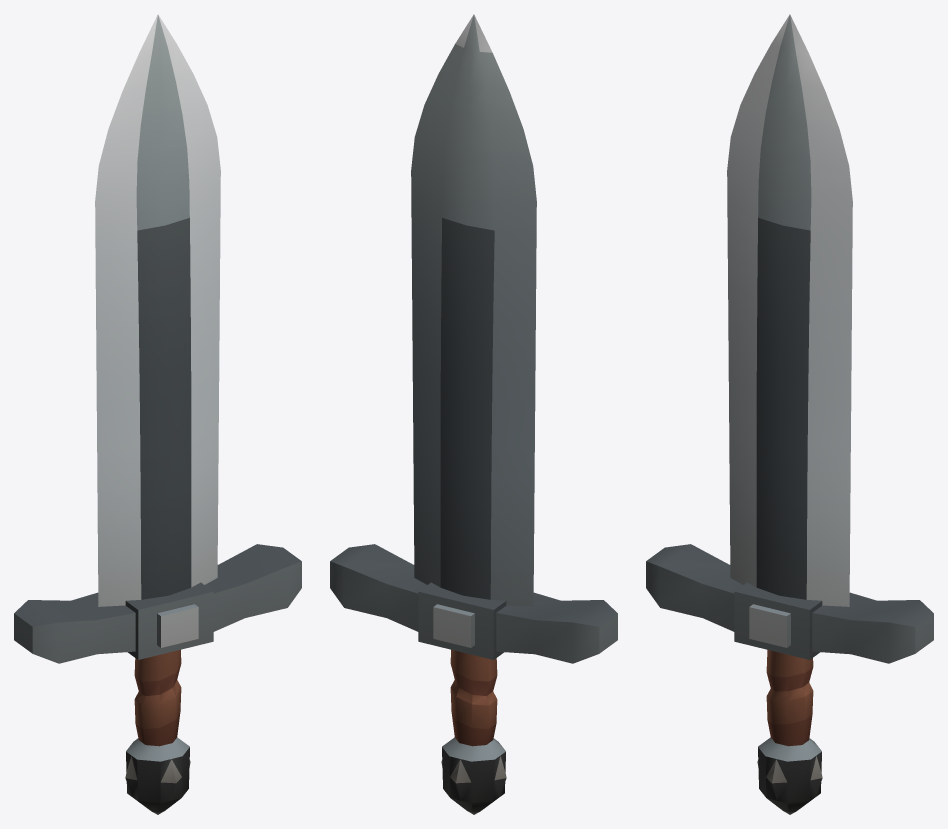
File: sword_knight.glb
3 views of the same model, side by side, from view 1: azimuth 30°, elevation 25°; view 2: azimuth 150°, elevation 25°; view 3: azimuth 330°, elevation 25° (orthographic).
Parts seen in each view (by area): view 1: Item; view 2: Item; view 3: Item.
Part boxes in pixels (left/top/right/bottom): Item: left=14, top=14, right=301, bottom=814; Item: left=330, top=14, right=617, bottom=814; Item: left=646, top=14, right=933, bottom=814.
Size of the model in its own units: 0.64 by 1.82 by 0.18.
3 materials, 3 textured.
